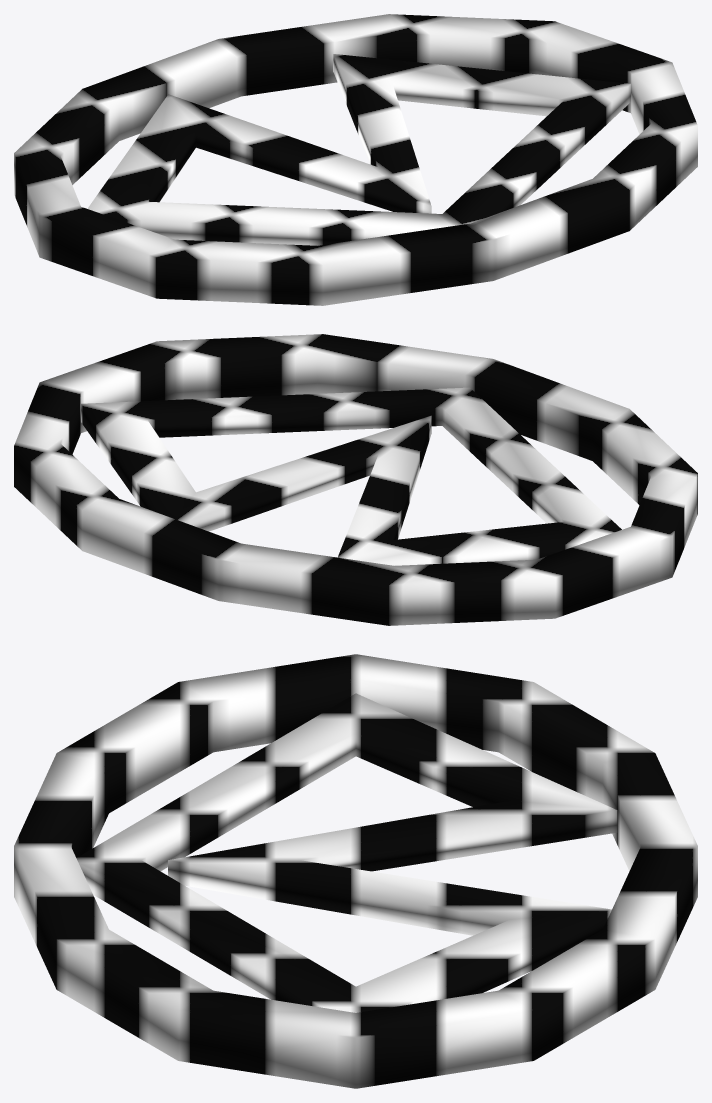
The model's file is initlitr38.dae.
3 views of the same model, one above another, from view 1: azimuth 30°, elevation 25°; view 2: azimuth 150°, elevation 25°; view 3: azimuth 270°, elevation 25° (orthographic). The views are drawn at different scales.
Parts seen in each view (by area): view 1: item; view 2: item; view 3: item.
Boxes of the visible parts, x1,y1,x2,y2 form: item: [14, 14, 697, 305]; item: [14, 334, 697, 625]; item: [14, 654, 697, 1088].
Bounding box in the file's own units: 1.63 × 1.22 × 0.1001.
Materials: 1 (1 with a texture image).
